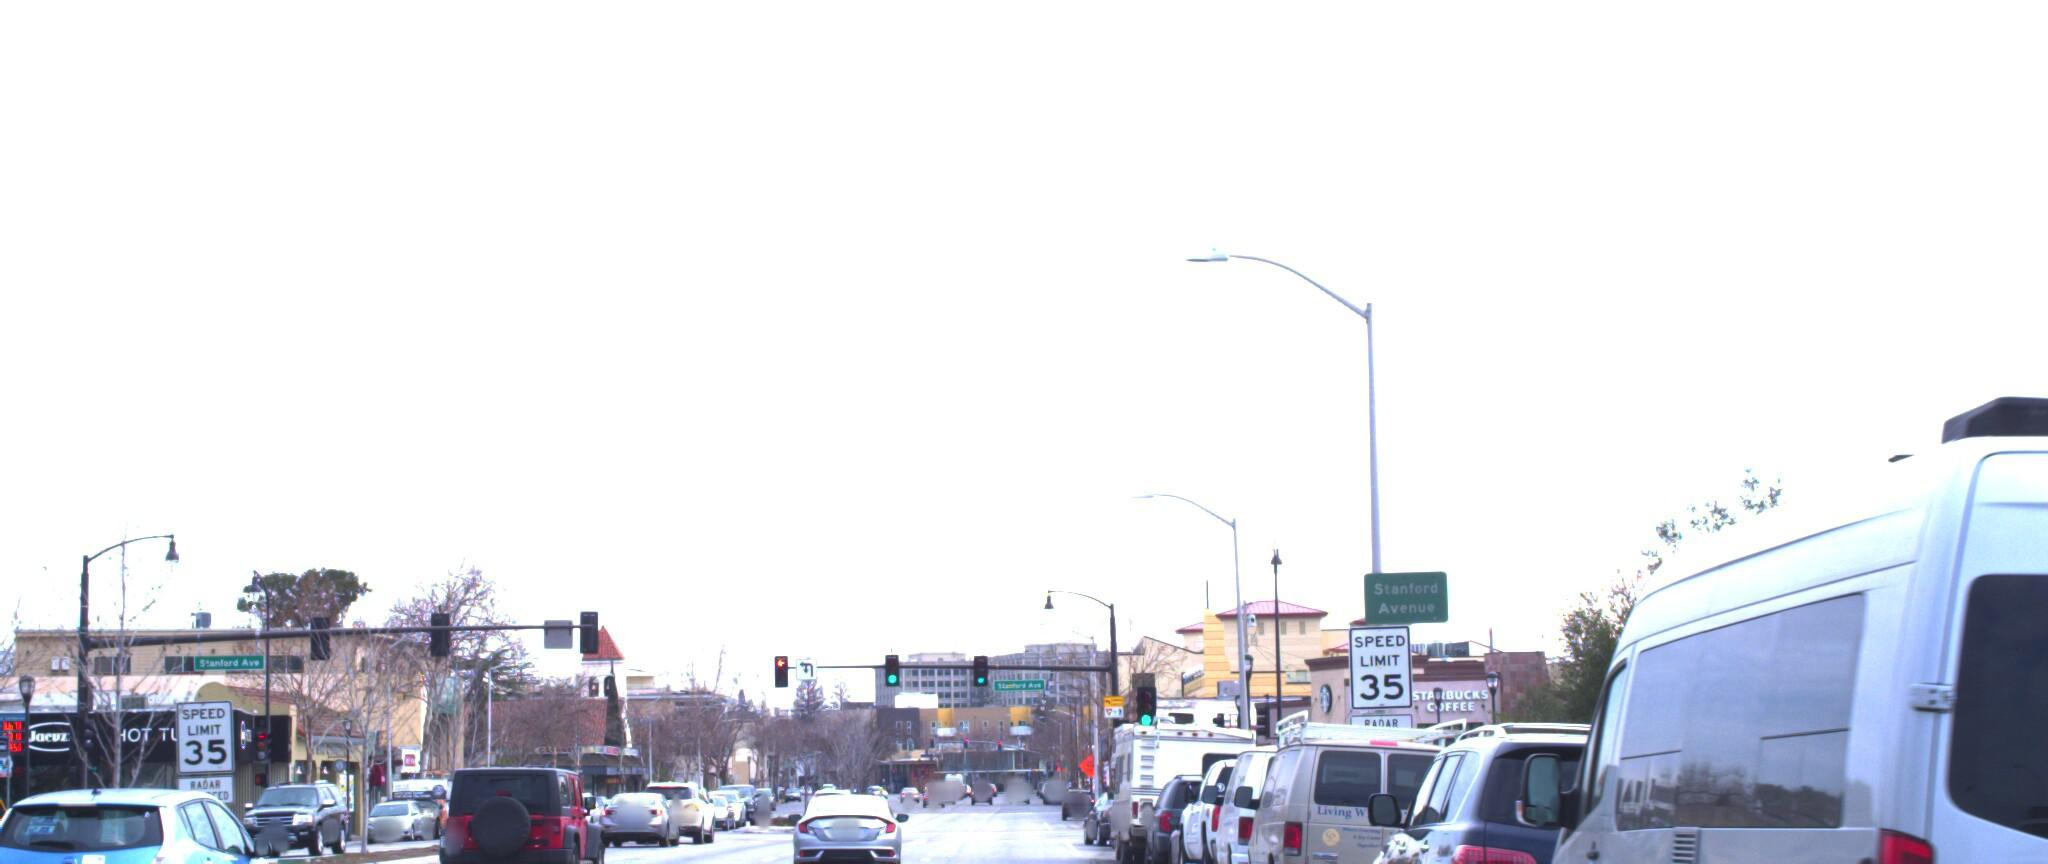car: (1488, 337, 2048, 864), (1364, 709, 1817, 864), (1250, 705, 1502, 864), (0, 760, 313, 864), (1209, 733, 1421, 864), (447, 760, 619, 864), (230, 769, 349, 855), (785, 777, 896, 864), (593, 783, 682, 844)
other_vehicle: (1101, 689, 1266, 864)
